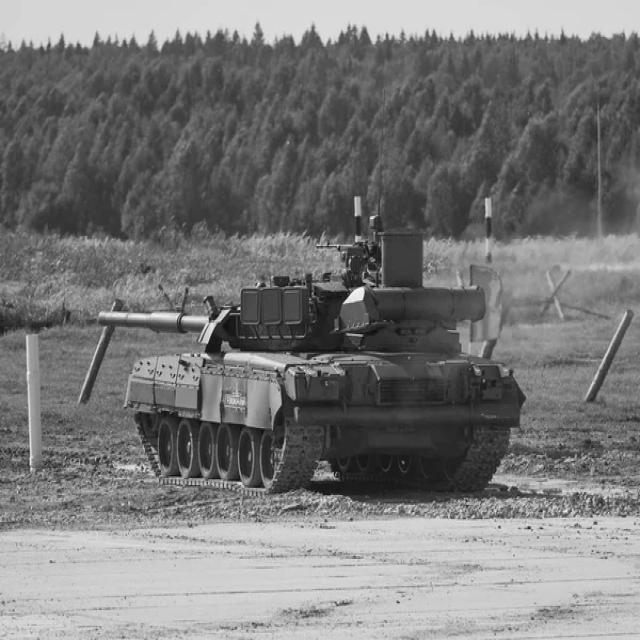Tank: (94, 223, 528, 505)
